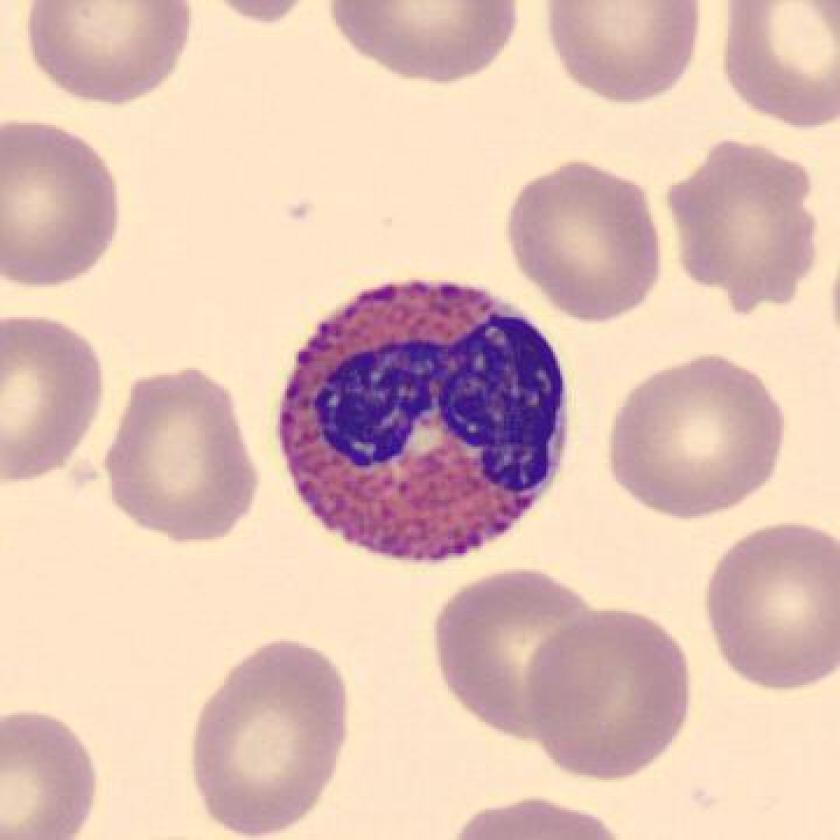eosinophil: (265, 256, 580, 580)
